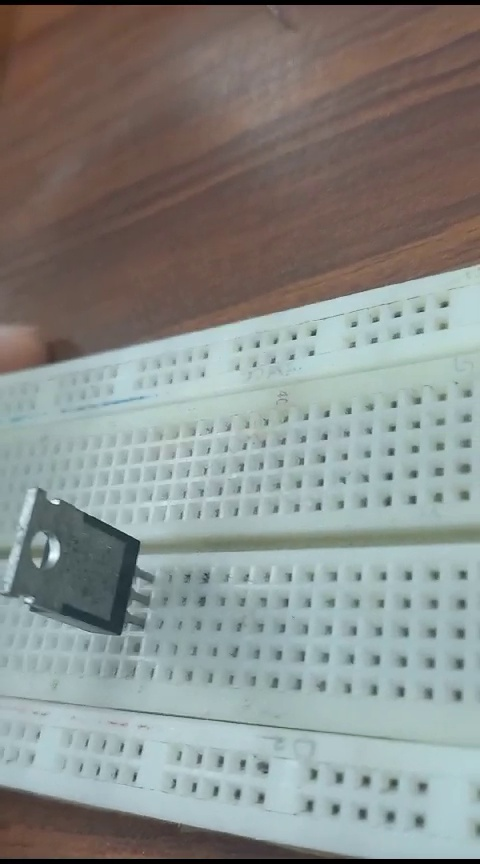voltage regulator: (10, 477, 160, 641)
